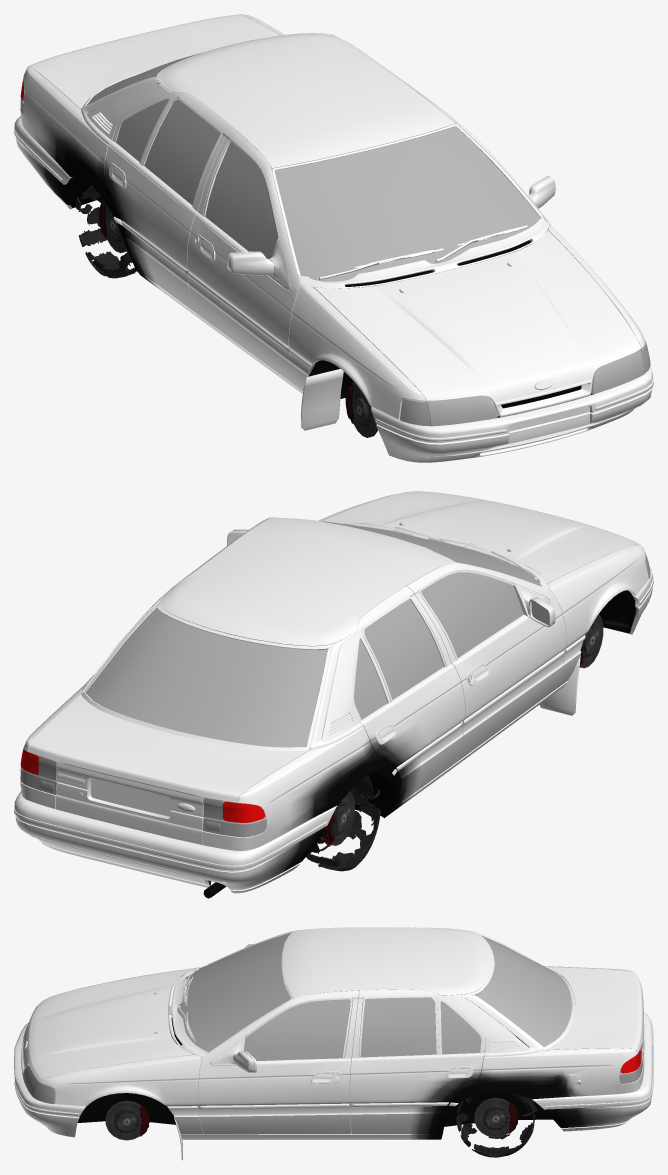
3 renders of one model, top to bottom at view 1: azimuth 30°, elevation 25°; view 2: azimuth 150°, elevation 25°; view 3: azimuth 270°, elevation 25°, orthographic. The views are drawn at different scales.
Visible parts, largest first — view 1: Body_Duco, Body_Glass, Body_Kits_00, Body_Matte, Undercarrage, Body_Chrome, Rotor; view 2: Body_Duco, Body_Glass, Body_Matte, Body_Kits_00, Undercarrage, Body_Chrome, Rotor (×2), BrakeLights; view 3: Body_Duco, Body_Glass, Body_Matte, Body_Kits_00, Undercarrage, Rotor (×2), Body_Chrome.
Part boxes in pixels (x1,y1,x2,y2): Body_Duco: (16,14,652,462); Body_Glass: (20,53,650,426); Body_Kits_00: (314,230,641,402); Body_Matte: (14,33,652,442); Undercarrage: (64,83,594,419); Body_Chrome: (14,126,653,441); Rotor: (352,382,377,437); Body_Duco: (15,491,652,890); Body_Glass: (20,521,650,837); Body_Matte: (14,518,652,893); Body_Kits_00: (324,491,639,583); Undercarrage: (203,590,636,898); Body_Chrome: (14,533,653,870); Rotor (×2): (332,614,603,845); BrakeLights: (20,749,265,822); Body_Duco: (15,927,651,1139); Body_Glass: (23,933,642,1104); Body_Matte: (14,930,652,1160); Body_Kits_00: (23,970,192,1080); Undercarrage: (77,1000,552,1126); Rotor (×2): (105,1097,510,1140); Body_Chrome: (14,1023,653,1115).
Size of the model in its own units: 2.12 by 1.33 by 4.85.
